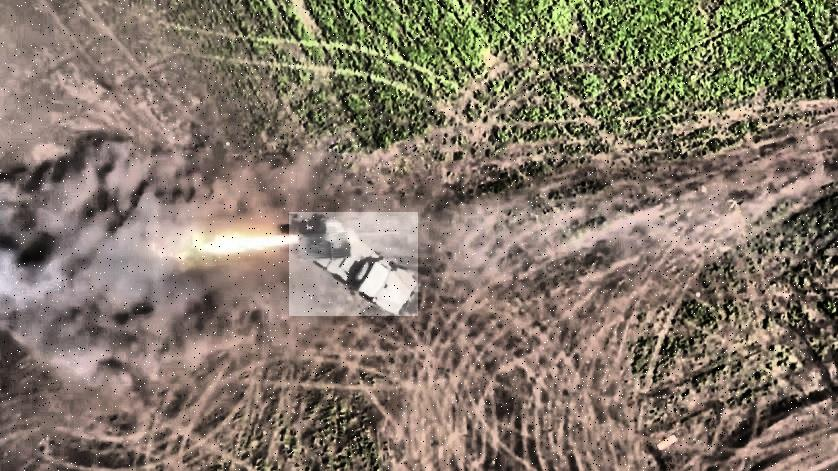military-vehicle: (289, 212, 418, 316)
